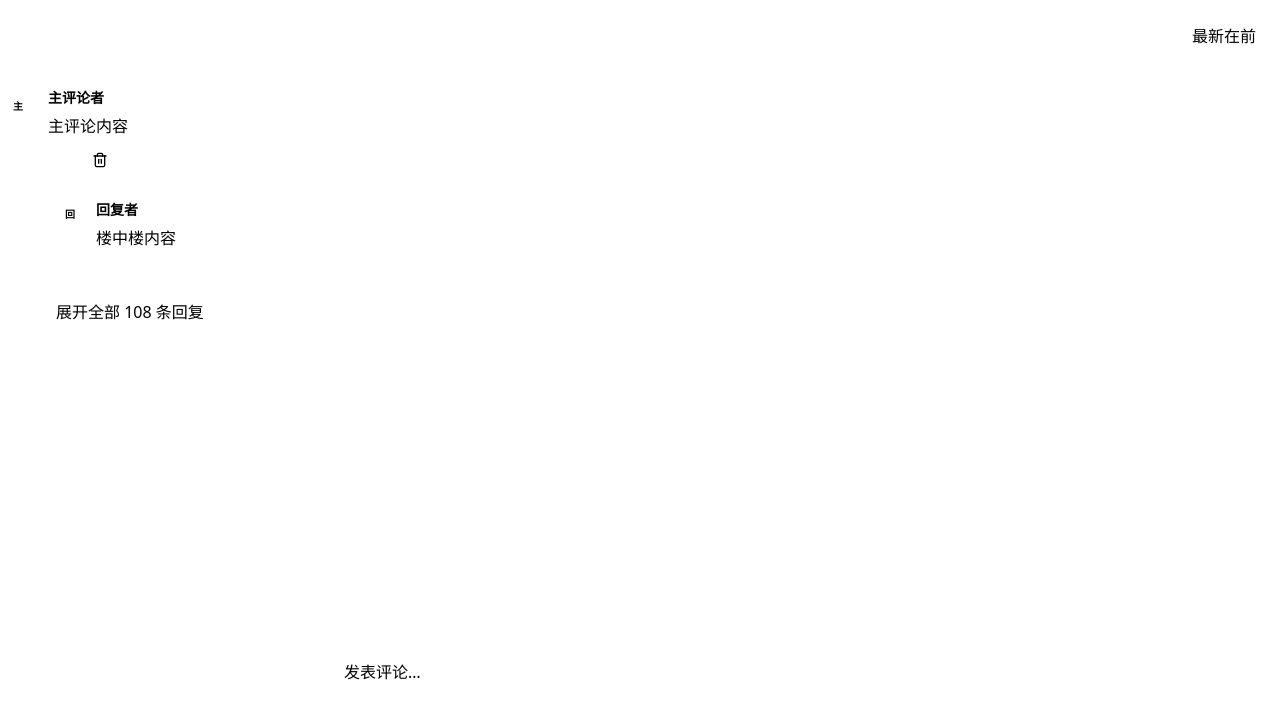
Test: MomentComments › 超过十条的已展开楼中楼提供悬浮收起按钮
Step 1. Click the button "展开全部 108 条回复" → (130, 312), box [56,300,204,324]
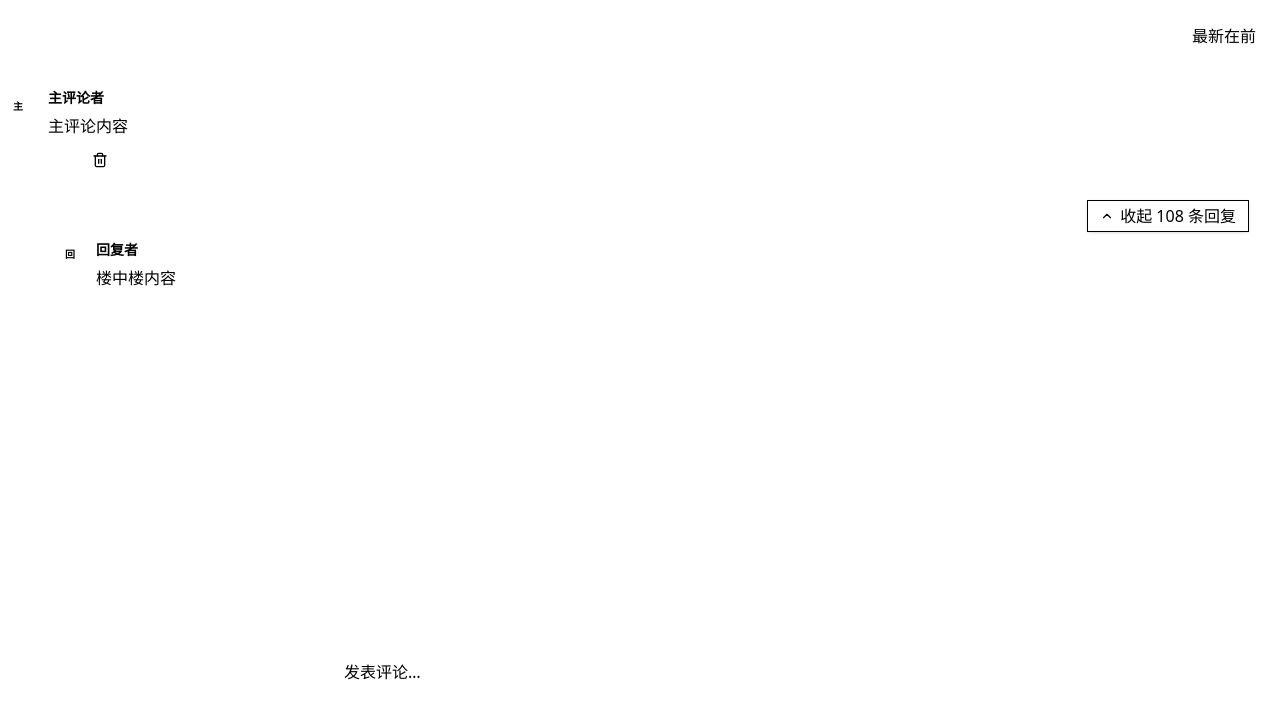
Step 2. Click the button "收起 108 条回复" → (1168, 216), box [1087,200,1249,232]
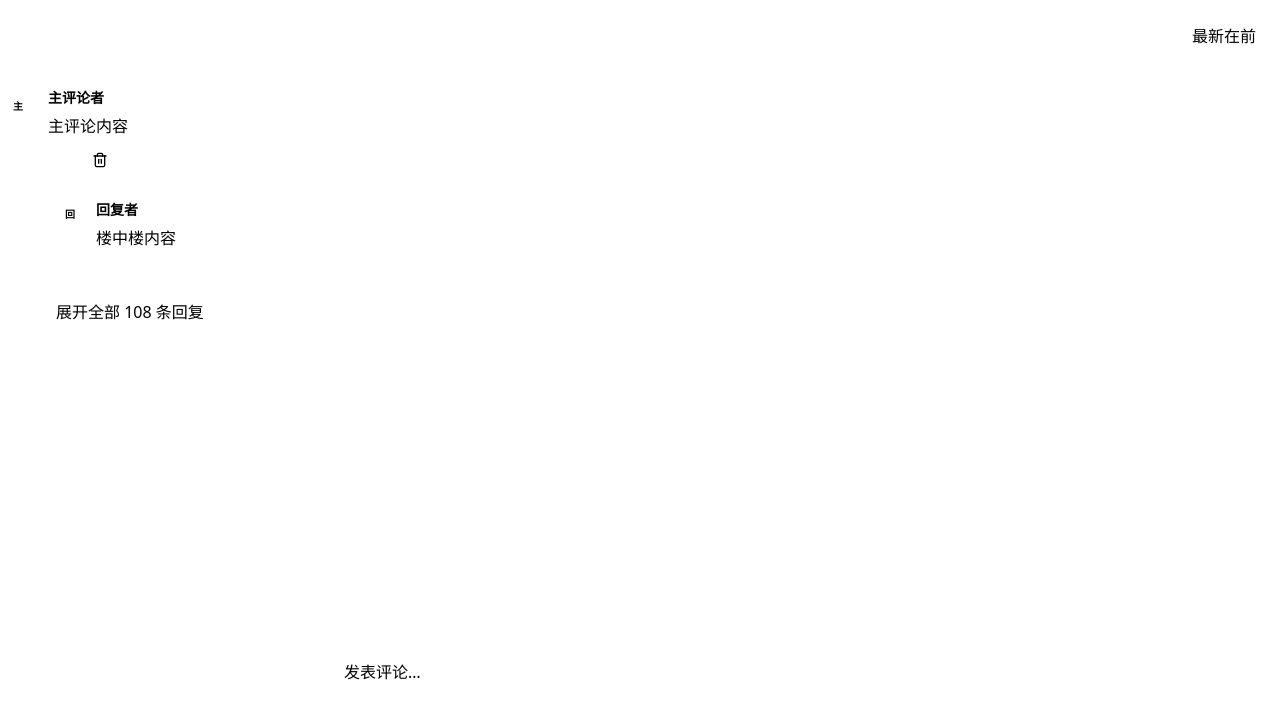
Check: the button "展开全部 108 条回复" is shown, box [56,300,204,324]
